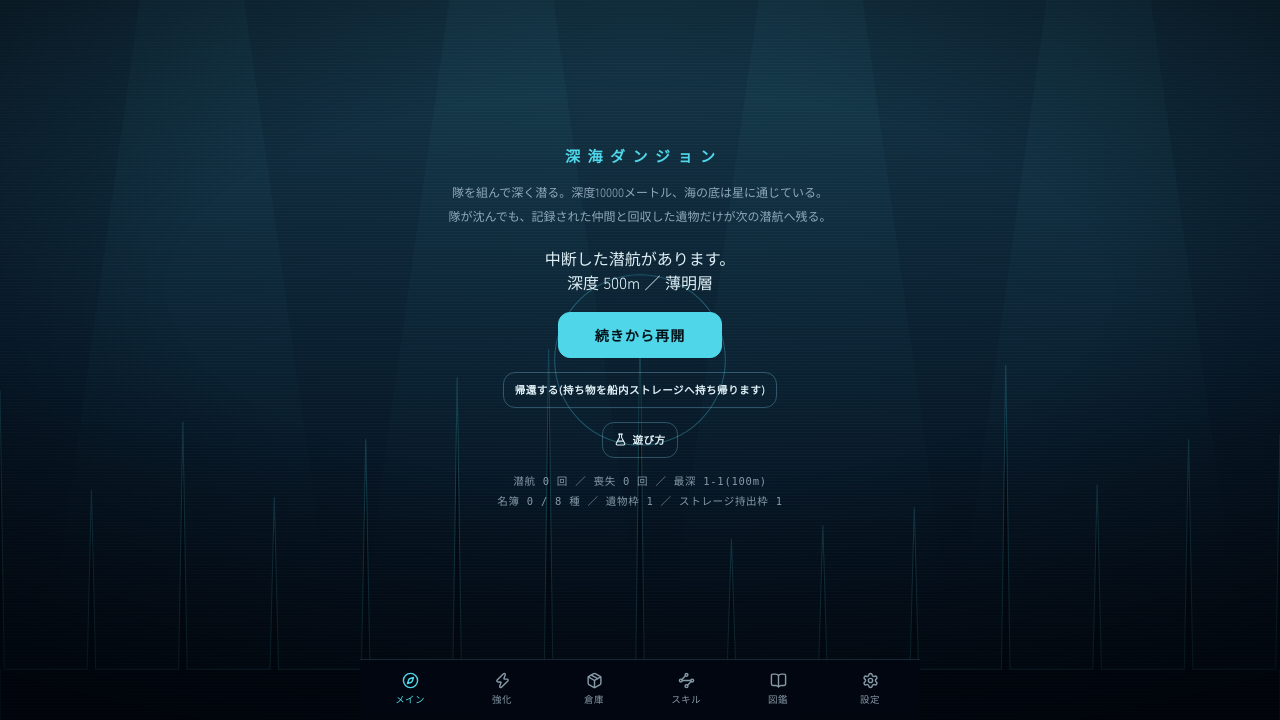
Test case: 戦闘ログの全文ポップアップ › ログ欄をタップすると全文が開き、閉じるで閉じる
Click the button "続きから再開". click: (640, 335)
box: [558,312,722,358]
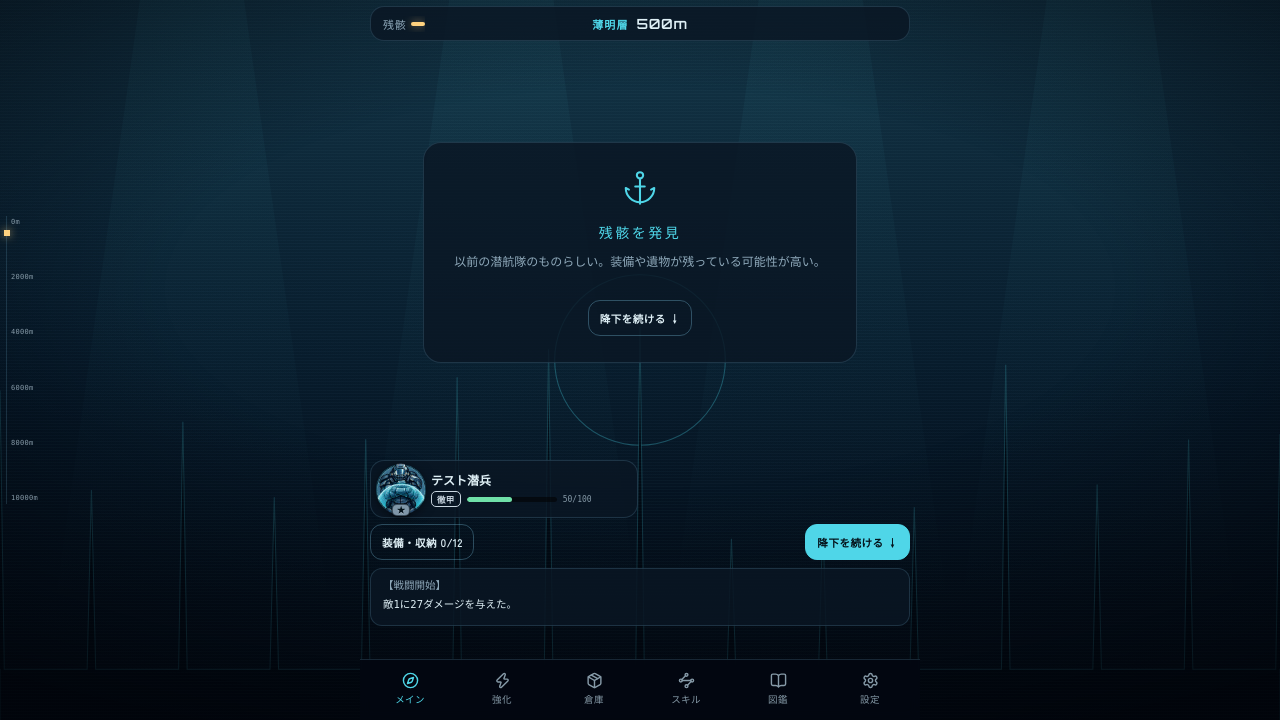
Click the button with class "sd-log". click: (414, 585)
box: [370,568,910,626]
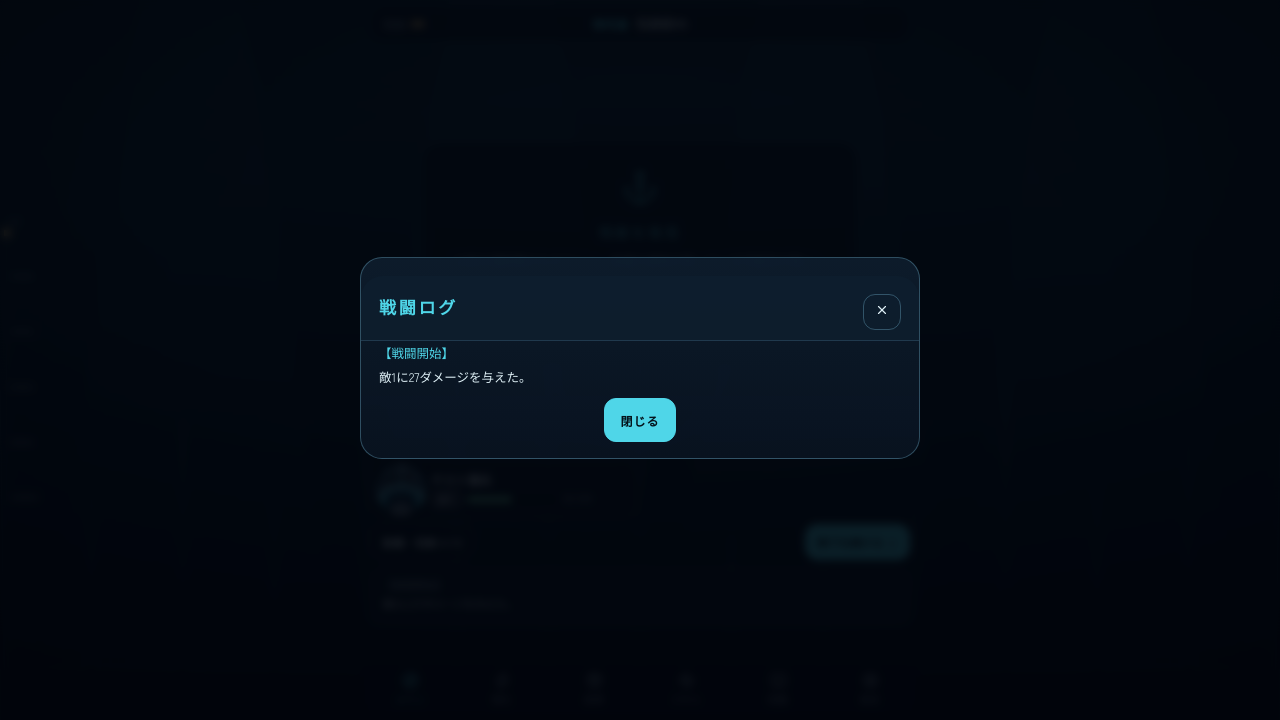
Now the element with class "sd-log-full" shows "敵1に27ダメージを与えた。", box [379,366,531,386]
Click the button "閉じる". click: (640, 420)
box: [604,398,676,442]
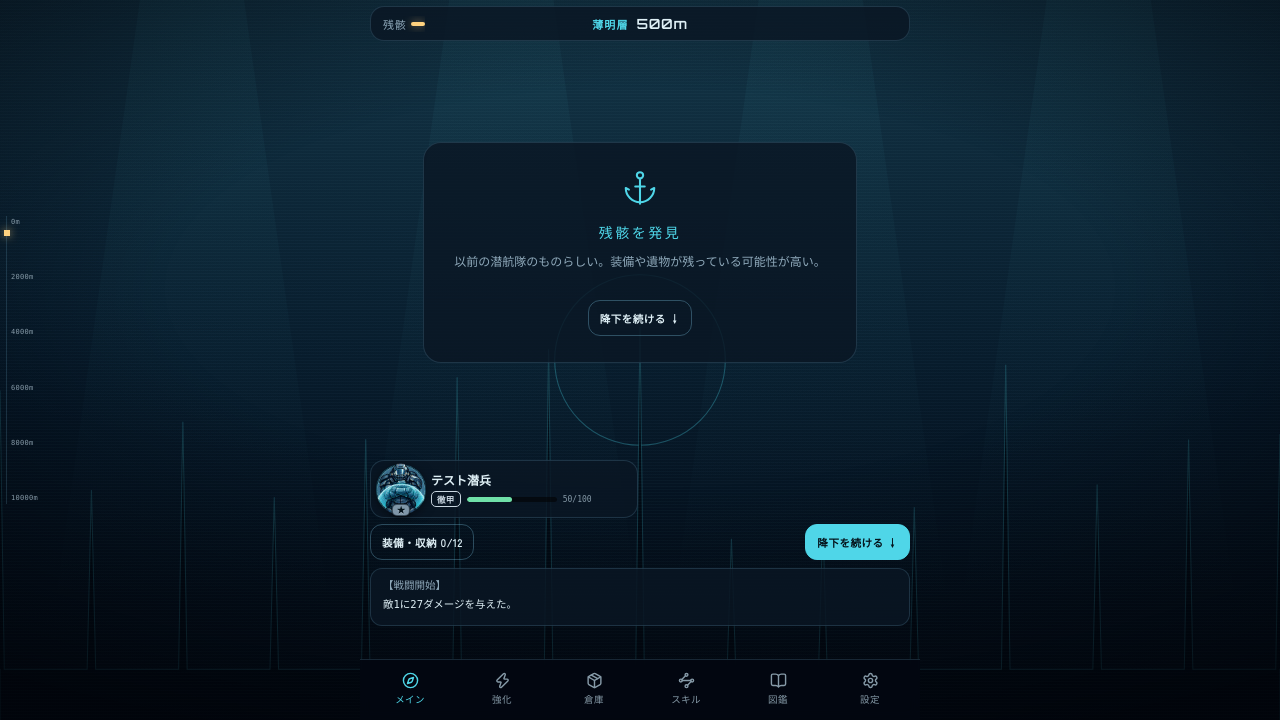
Now the element with class "sd-log-full" is gone
